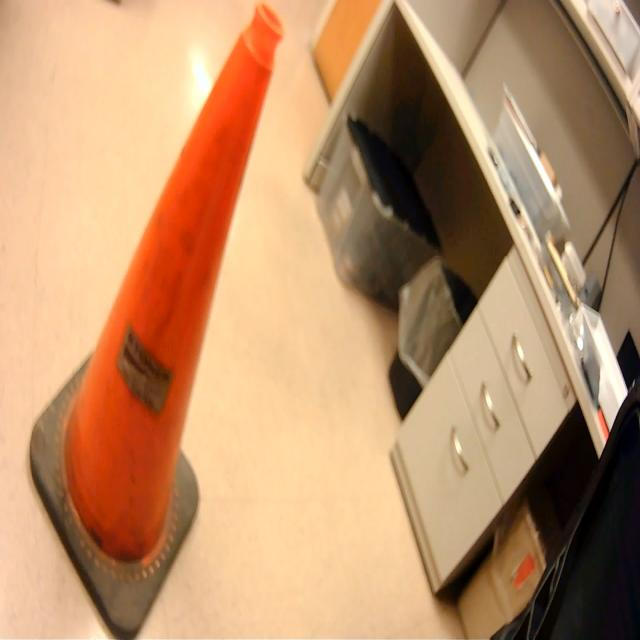traffic cone: (24, 1, 290, 640)
